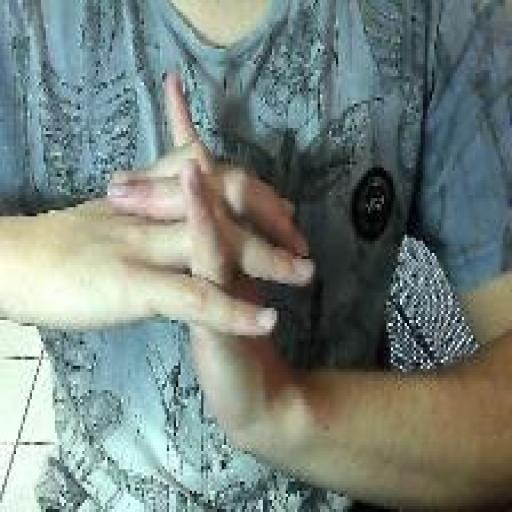Ushi -ox-: (104, 64, 317, 475)
